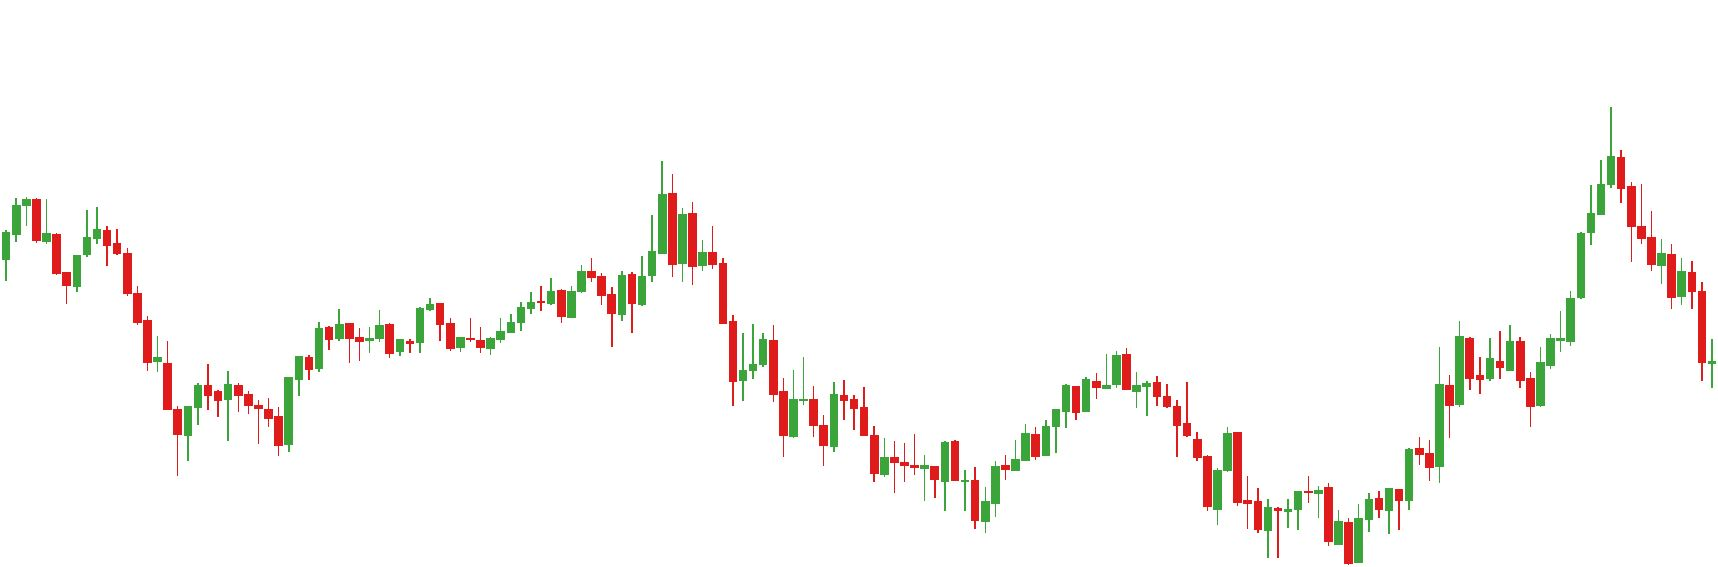buy: (1466, 337, 1548, 436), (556, 270, 626, 355)
